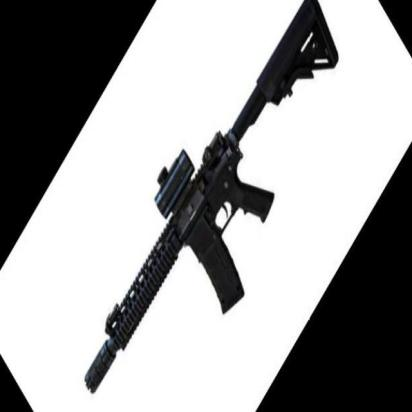Gun: (83, 0, 339, 395)
